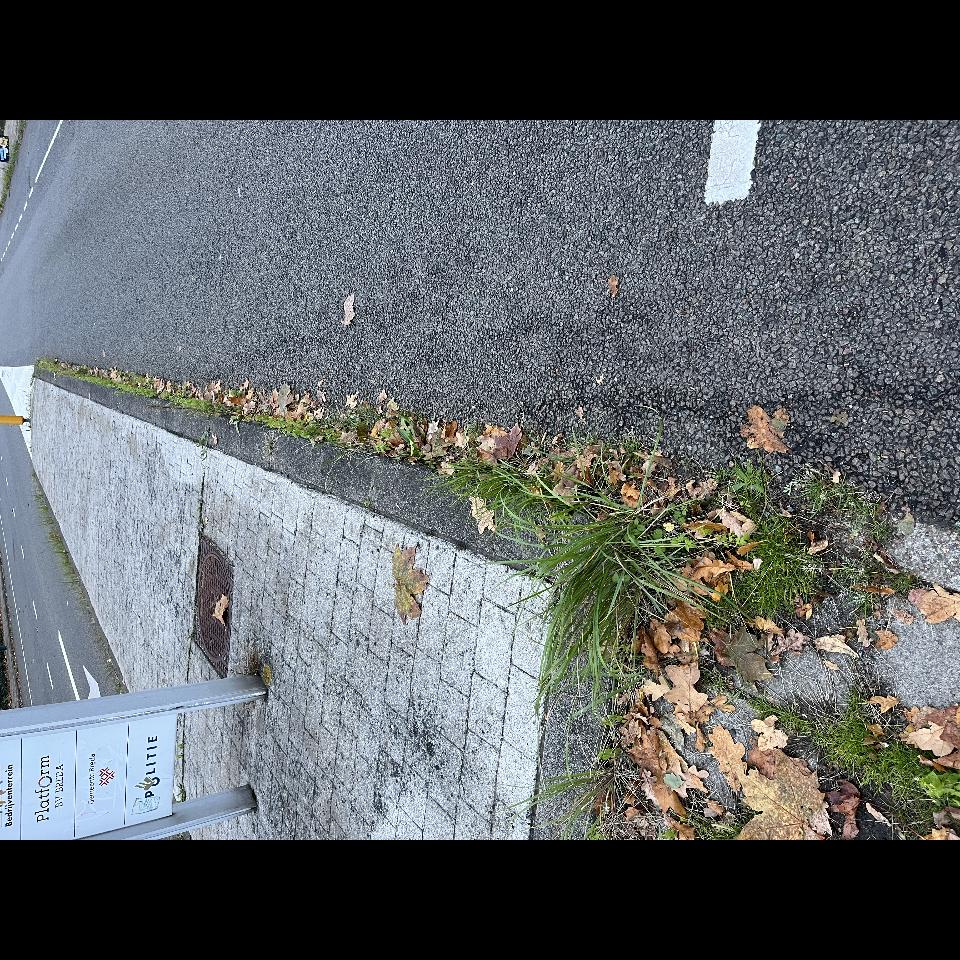weed: (135, 552, 395, 875), (136, 614, 357, 818), (226, 841, 378, 941), (0, 634, 84, 758), (73, 867, 141, 960), (442, 182, 475, 278), (400, 367, 425, 444), (426, 323, 437, 340), (470, 160, 479, 173)
